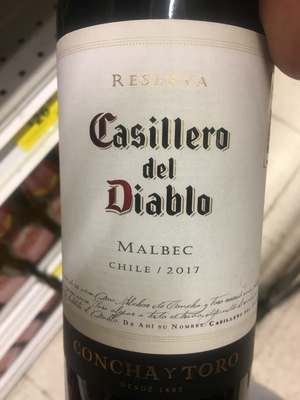casillero del diablo malbec: (53, 10, 276, 400)
